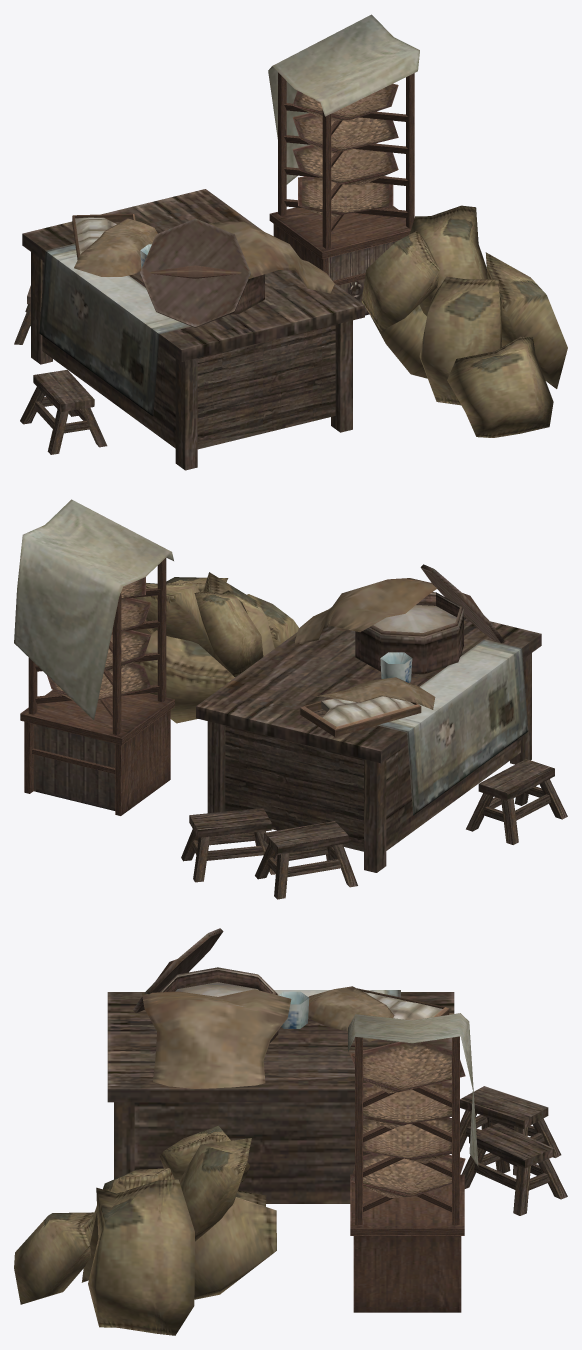
The picture shows the model from 3 angles, top to bottom: view 1: azimuth 30°, elevation 25°; view 2: azimuth 150°, elevation 25°; view 3: azimuth 270°, elevation 25°; orthographic projection. The views are drawn at different scales.
Parts seen in each view (by area): view 1: element3ds.com-ca_thing_misc062, element3ds.com-ca_thing_misc049, element3ds.com-ca_thing_misc041; view 2: element3ds.com-ca_thing_misc062, element3ds.com-ca_thing_misc049, element3ds.com-ca_thing_misc041; view 3: element3ds.com-ca_thing_misc062, element3ds.com-ca_thing_misc049, element3ds.com-ca_thing_misc041.
Boxes of the visible parts, x1=… form: element3ds.com-ca_thing_misc062: x1=14, y1=189, x2=364, y2=470; element3ds.com-ca_thing_misc049: x1=268, y1=14, x2=419, y2=315; element3ds.com-ca_thing_misc041: x1=361, y1=205, x2=567, y2=437; element3ds.com-ca_thing_misc062: x1=181, y1=564, x2=567, y2=899; element3ds.com-ca_thing_misc049: x1=14, y1=499, x2=174, y2=815; element3ds.com-ca_thing_misc041: x1=133, y1=572, x2=298, y2=723; element3ds.com-ca_thing_misc062: x1=107, y1=928, x2=567, y2=1215; element3ds.com-ca_thing_misc049: x1=348, y1=1013, x2=478, y2=1312; element3ds.com-ca_thing_misc041: x1=14, y1=1125, x2=276, y2=1335.
Size of the model in its own units: 127 by 66.96 by 118.
